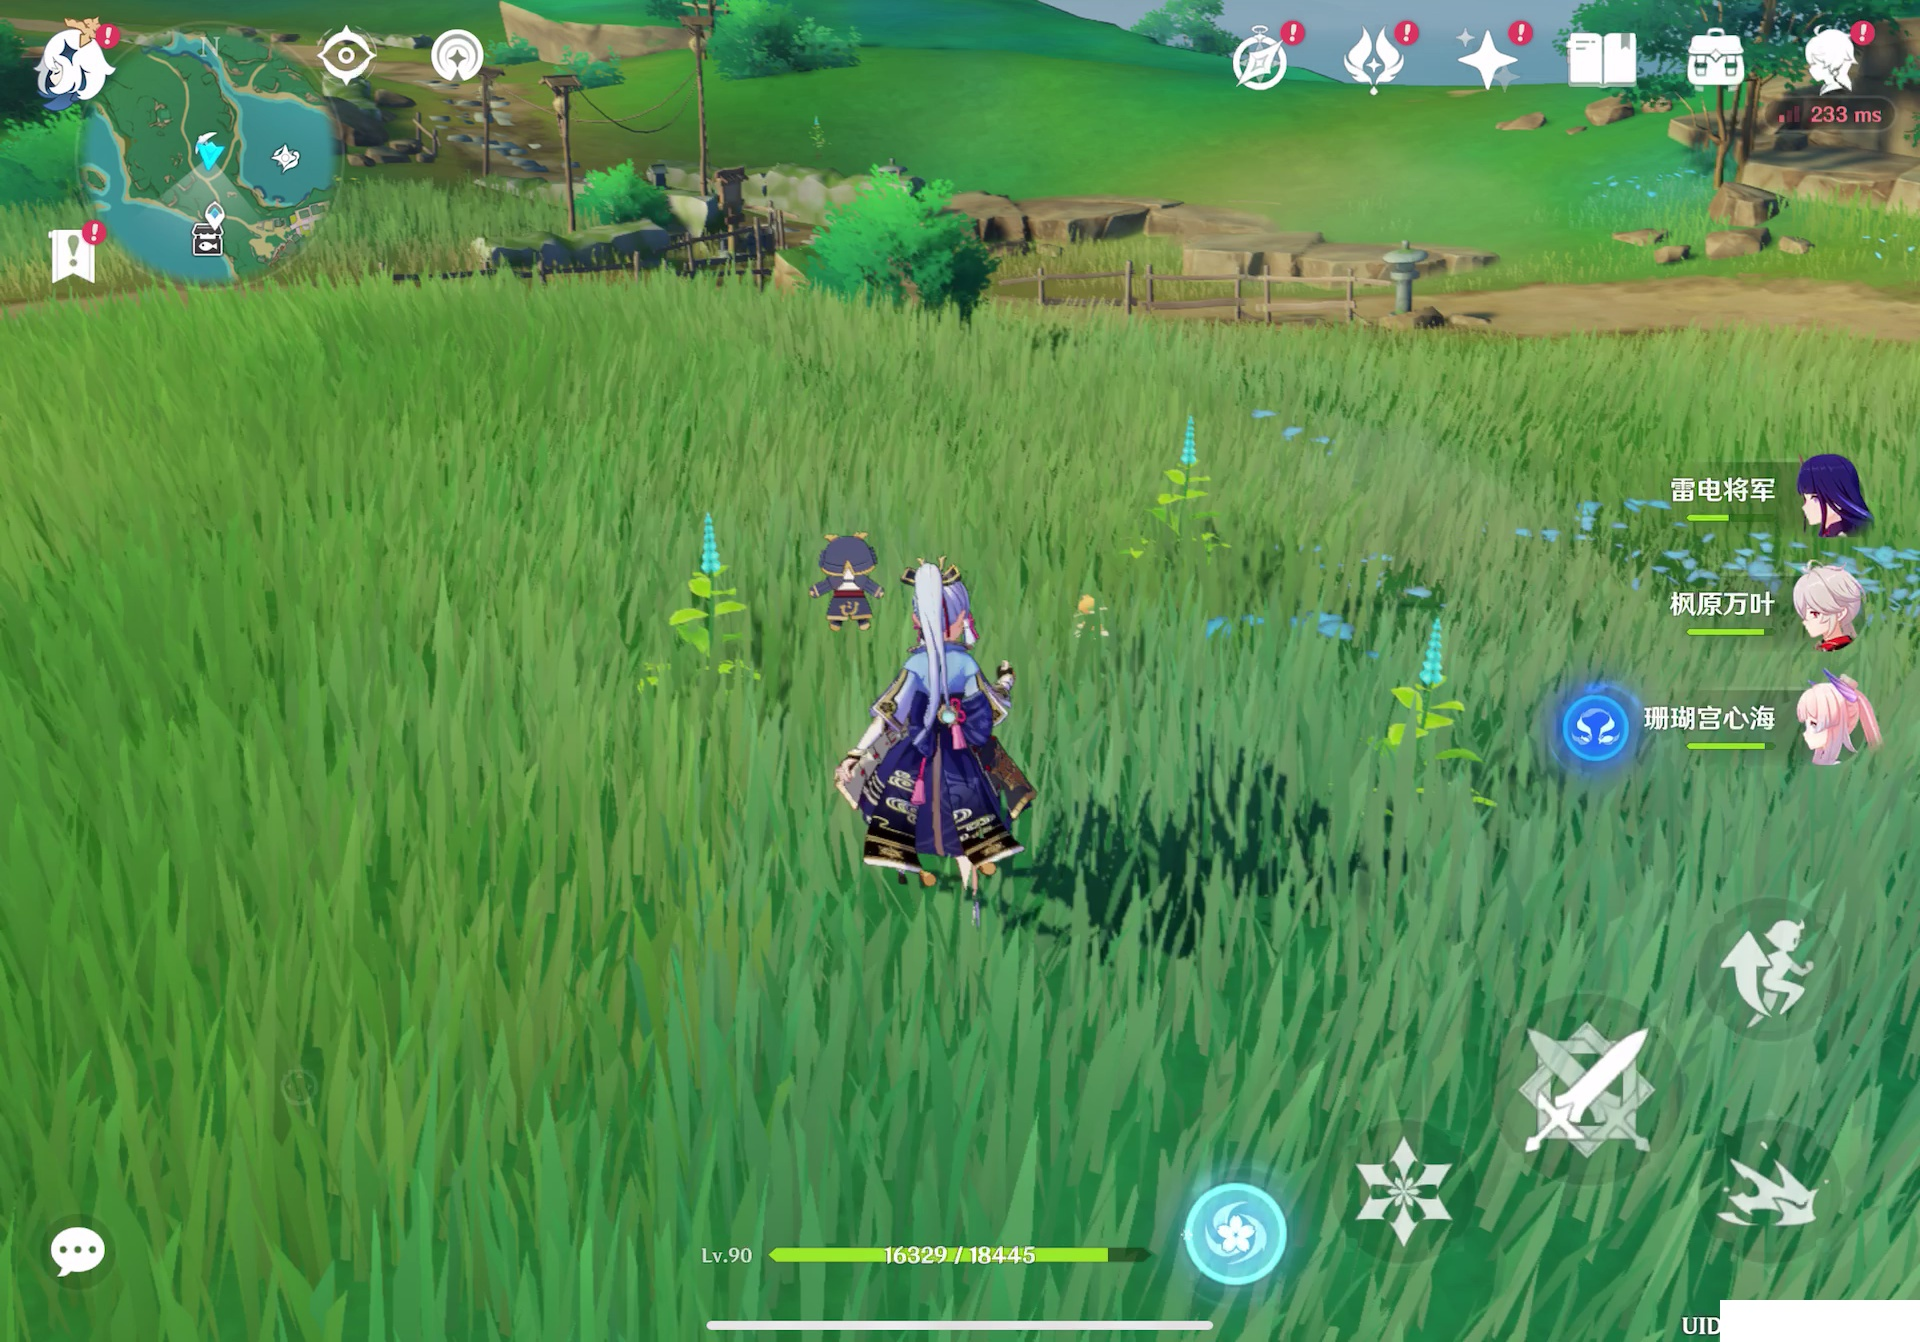没用的甜甜花: (1064, 589, 1118, 653)
没用的薄荷: (1354, 589, 1506, 842), (646, 505, 770, 710), (1131, 419, 1230, 579)
神里绫龟: (852, 548, 1052, 918)
